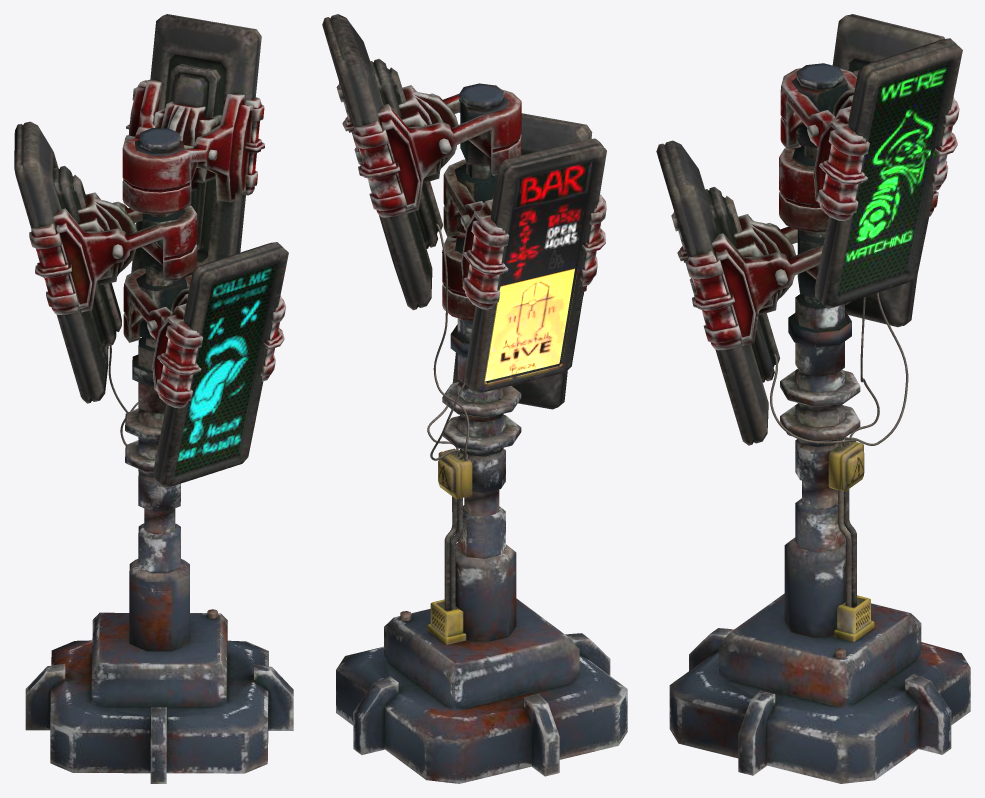
Rendered from SUP_cyberpunk_tv_pillar.glb.
3 views of the same model, side by side, from view 1: azimuth 30°, elevation 25°; view 2: azimuth 150°, elevation 25°; view 3: azimuth 270°, elevation 25° (orthographic). The views are drawn at different scales.
Parts seen in each view (by area): view 1: SUP_cyberpunk_tv_pillar; view 2: SUP_cyberpunk_tv_pillar; view 3: SUP_cyberpunk_tv_pillar.
Part boxes in pixels (bbox=[...]): SUP_cyberpunk_tv_pillar: bbox=[14, 14, 293, 783]; SUP_cyberpunk_tv_pillar: bbox=[322, 14, 627, 783]; SUP_cyberpunk_tv_pillar: bbox=[656, 14, 970, 783].
Bounding box in the file's own units: 1.92 × 4.72 × 1.88.
Materials: 1 (1 with a texture image).
